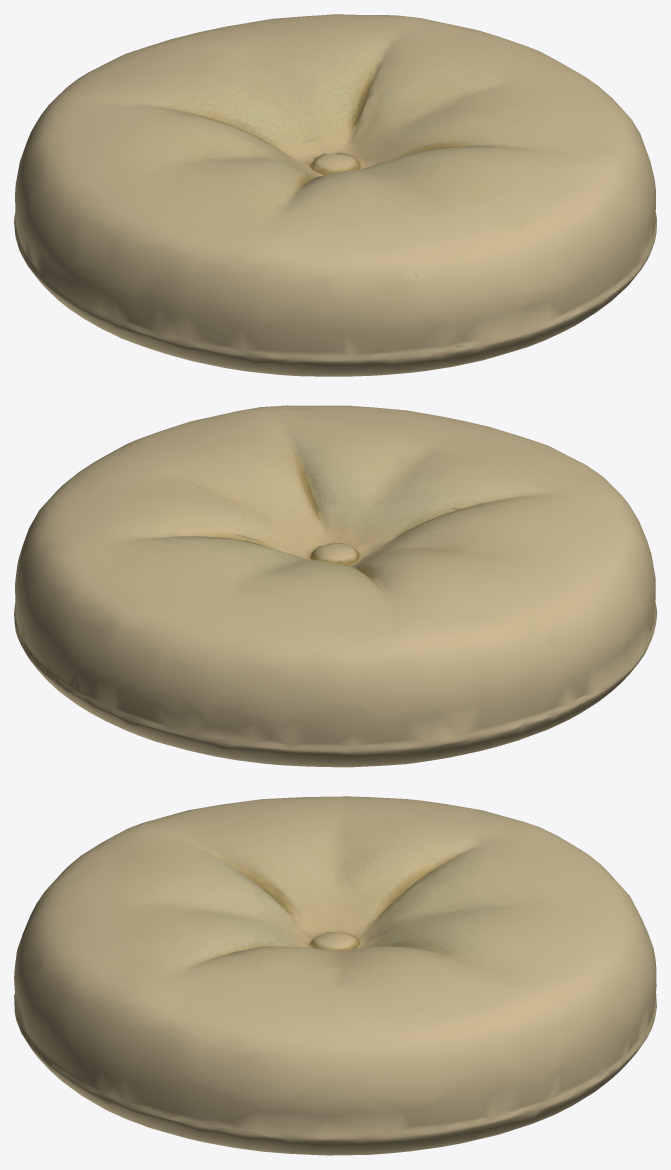
The model's file is Cushion_Roundel.glb.
3 views of the same model, one above another, from view 1: azimuth 30°, elevation 25°; view 2: azimuth 150°, elevation 25°; view 3: azimuth 270°, elevation 25° (orthographic).
Visible parts, largest first — view 1: Mesh_0; view 2: Mesh_0; view 3: Mesh_0.
Boxes of the visible parts, x1,y1,x2,y2 form: Mesh_0: (14,14,656,376); Mesh_0: (14,405,656,767); Mesh_0: (14,796,656,1155).
Size of the model in its own units: 1.91 by 0.5087 by 1.91.
1 material, 1 textured.
